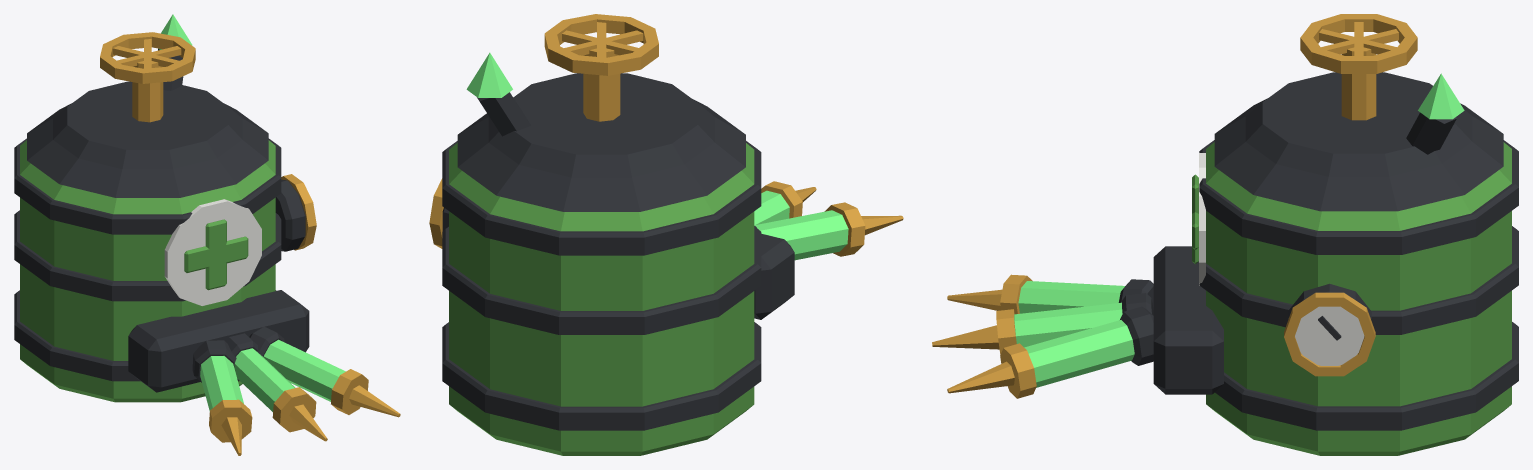
The model's file is MenderB1.obj.
3 renders of one model, left to right at view 1: azimuth 30°, elevation 25°; view 2: azimuth 150°, elevation 25°; view 3: azimuth 270°, elevation 25°, orthographic. The views are drawn at different scales.
Visible parts, largest first — view 1: MenderB1; view 2: MenderB1; view 3: MenderB1.
Part boxes in pixels (x1=…): MenderB1: x1=14, y1=14, x2=400, y2=455; MenderB1: x1=429, y1=14, x2=903, y2=455; MenderB1: x1=932, y1=14, x2=1518, y2=455.
Bounding box in the file's own units: 0.7634 × 0.8602 × 1.28.
